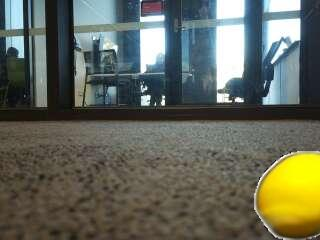lemon: (255, 152, 318, 237)
